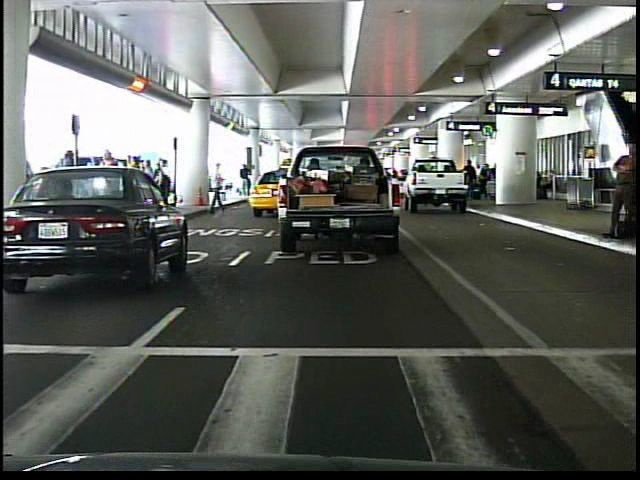person: (94, 148, 122, 226), (206, 158, 229, 215), (238, 162, 256, 196)
